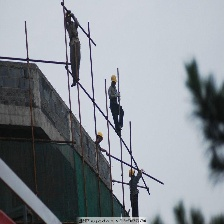helmet: (96, 131, 104, 145), (128, 169, 135, 177), (111, 74, 117, 82)
person: (64, 8, 82, 90), (108, 72, 125, 138), (128, 166, 144, 218), (96, 128, 104, 152)
